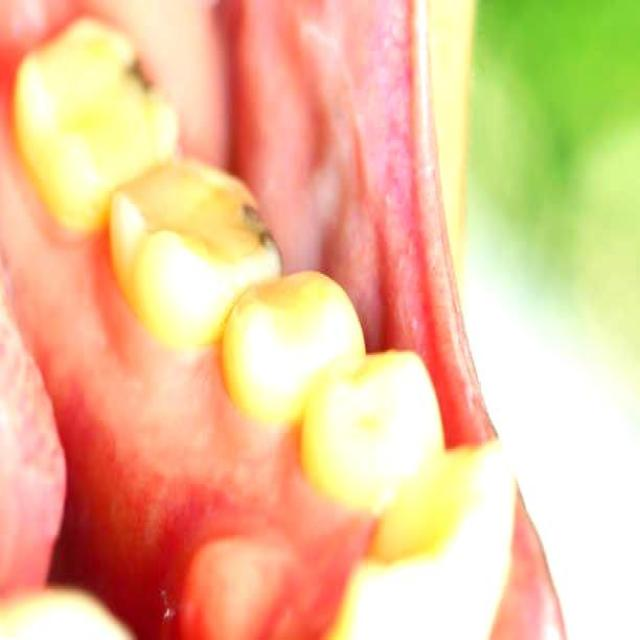caries: (238, 192, 283, 261), (122, 41, 160, 108)
